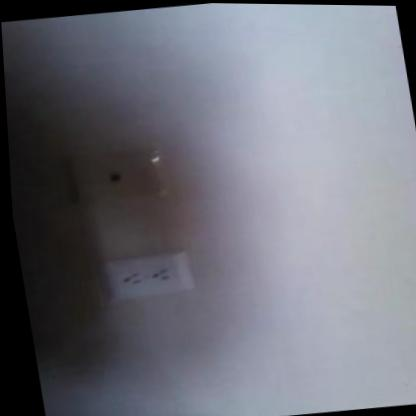OUTLET: (100, 247, 197, 302)
